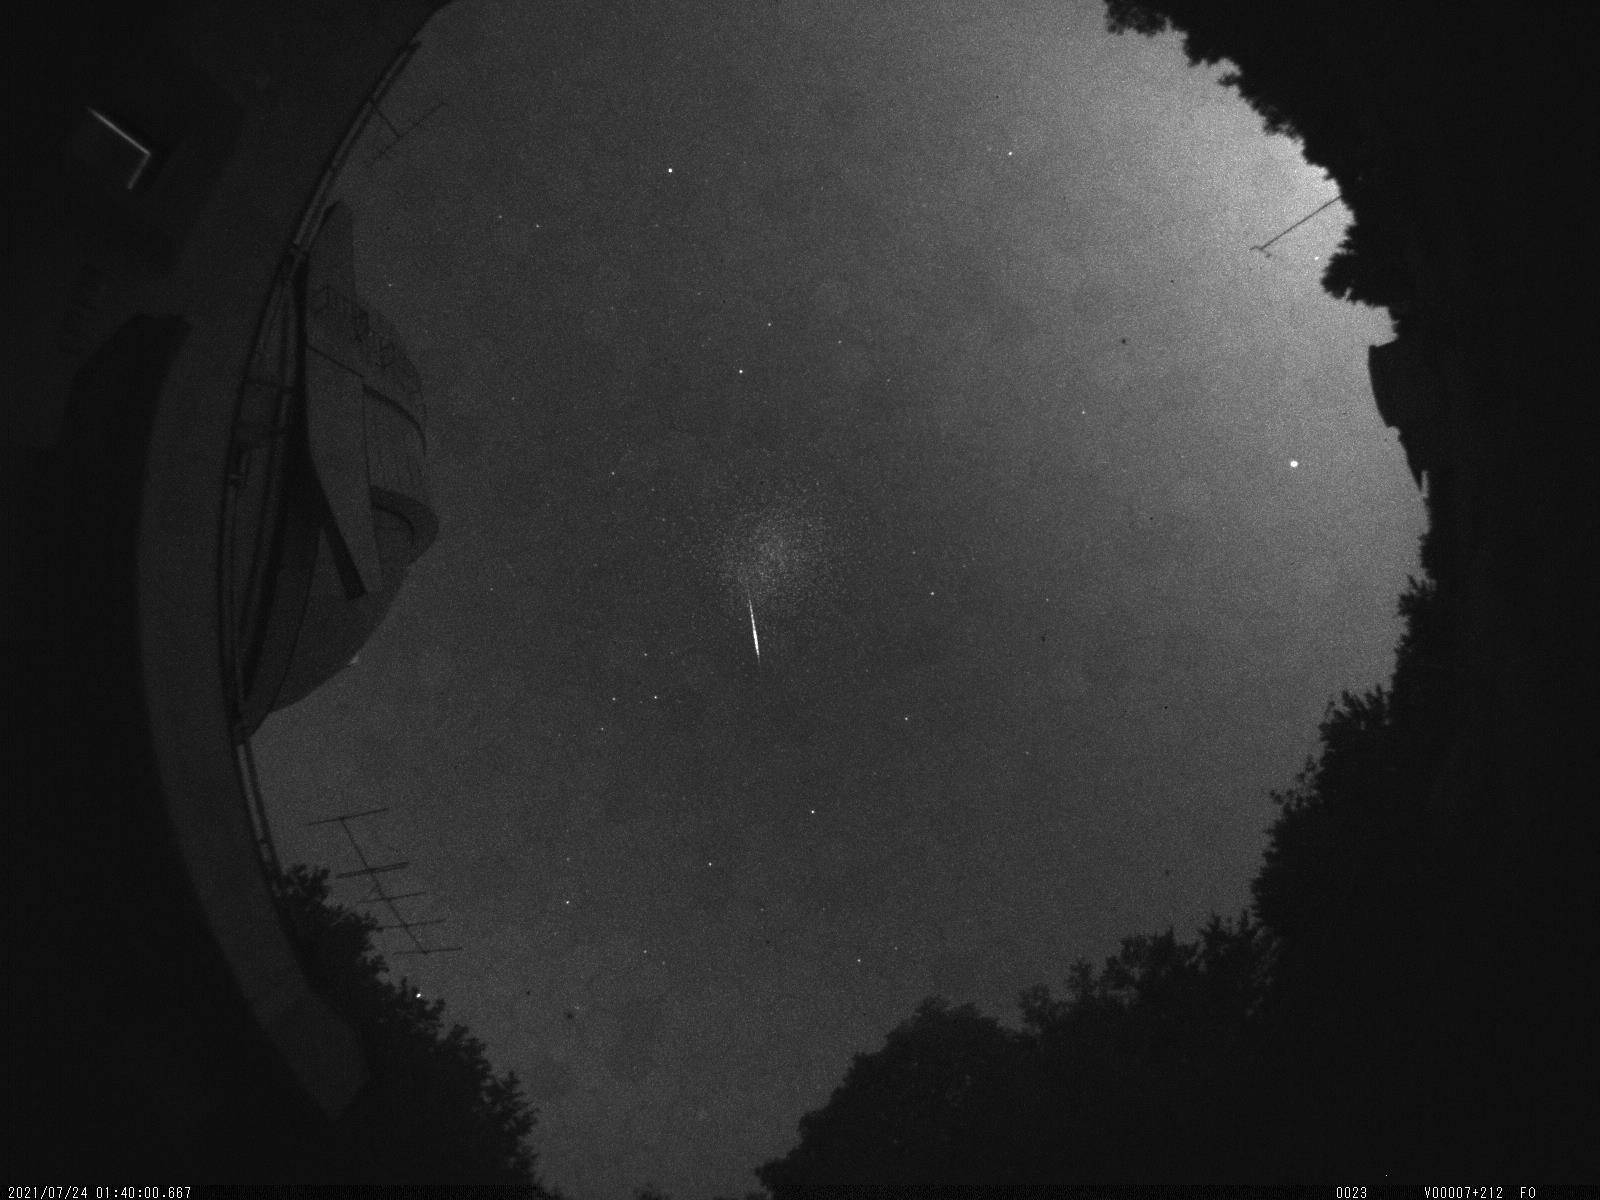Meteor: (742, 589, 766, 669)
